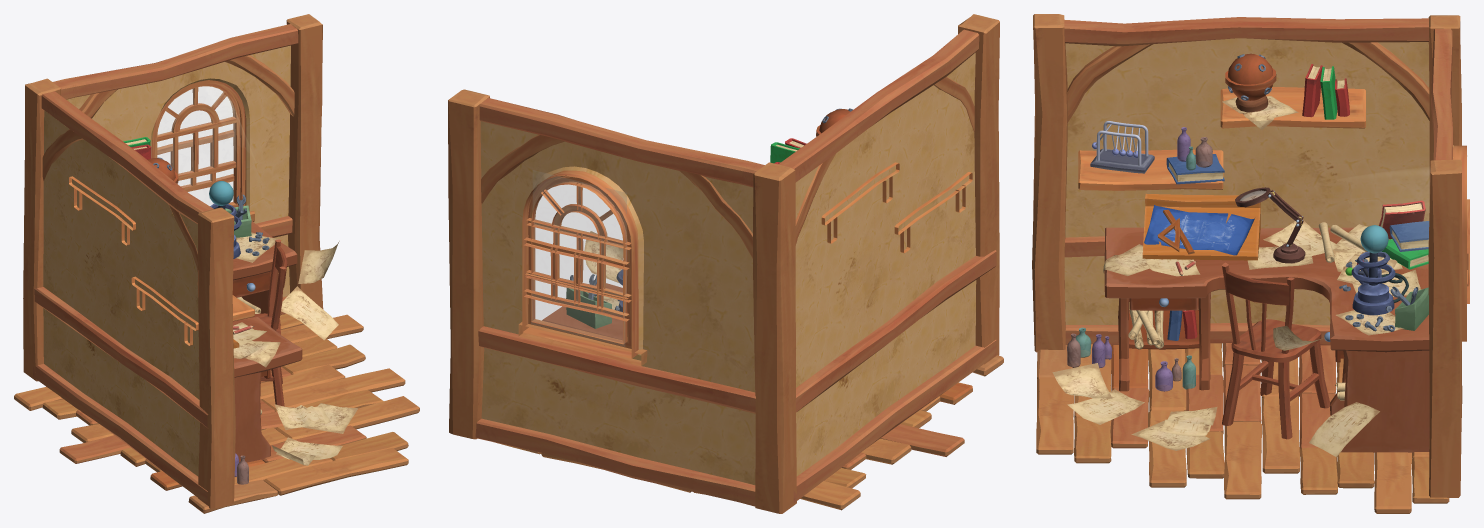
File: inventors_room.glb
The picture shows the model from 3 angles, left to right: view 1: azimuth 30°, elevation 25°; view 2: azimuth 150°, elevation 25°; view 3: azimuth 270°, elevation 25°; orthographic projection. The views are drawn at different scales.
Visible parts, largest first — view 1: Wall_01, Wall_02, Pillar_01, Pillar_03, Pillar_02, Window, Beam_02, WindowPanel, Beam_01, Beam_05, Beam_03, DeskTop (+33 smaller); view 2: Wall_02, Wall_01, Pillar_02, Pillar_03, WindowPanel, Window, Pillar_01, Beam_02, Beam_06, Beam_04, Beam_01, Beam_05 (+14 smaller); view 3: Wall_01, Pillar_03, Pillar_01, DeskTop, Beam_01, DeskSupport_02, Chair, Cube.049, Plane.007, WallShelf_01, WallShelf_02, Plank_14 (+53 smaller).
Boxes of the visible parts, left/top/right/bottom form: Wall_01: left=43, top=110, right=199, bottom=476; Wall_02: left=66, top=45, right=290, bottom=296; Pillar_01: left=197, top=207, right=235, bottom=508; Pillar_03: left=286, top=14, right=323, bottom=309; Pillar_02: left=23, top=78, right=61, bottom=381; Window: left=152, top=80, right=245, bottom=207; Beam_02: left=53, top=24, right=298, bottom=99; WindowPanel: left=157, top=86, right=235, bottom=205; Beam_01: left=41, top=91, right=213, bottom=223; Beam_05: left=33, top=364, right=207, bottom=504; Beam_03: left=34, top=287, right=208, bottom=427; DeskTop: left=233, top=221, right=302, bottom=377; Wall_02: left=480, top=121, right=755, bottom=485; Wall_01: left=795, top=52, right=976, bottom=476; Pillar_02: left=753, top=162, right=796, bottom=513; Pillar_03: left=448, top=89, right=489, bottom=439; WindowPanel: left=531, top=170, right=626, bottom=346; Window: left=524, top=175, right=631, bottom=348; Pillar_01: left=958, top=14, right=999, bottom=364; Beam_02: left=479, top=98, right=764, bottom=187; Beam_06: left=475, top=418, right=755, bottom=506; Beam_04: left=478, top=326, right=755, bottom=413; Beam_01: left=778, top=29, right=979, bottom=182; Beam_05: left=793, top=340, right=996, bottom=502; Wall_01: left=1064, top=38, right=1429, bottom=325; Pillar_03: left=1428, top=159, right=1462, bottom=497; Pillar_01: left=1032, top=14, right=1067, bottom=352; DeskTop: left=1104, top=227, right=1429, bottom=352; Beam_01: left=1064, top=17, right=1428, bottom=46; DeskSupport_02: left=1330, top=350, right=1429, bottom=452; Chair: left=1222, top=262, right=1329, bottom=439; Cube.049: left=1142, top=193, right=1260, bottom=260; Plane.007: left=1144, top=205, right=1254, bottom=255; WallShelf_01: left=1078, top=149, right=1223, bottom=190; WallShelf_02: left=1220, top=87, right=1365, bottom=128; Plank_14: left=1224, top=422, right=1261, bottom=499.
Size of the model in its own units: 3.25 by 2.57 by 3.05.
Materials: 3 (3 with a texture image).
